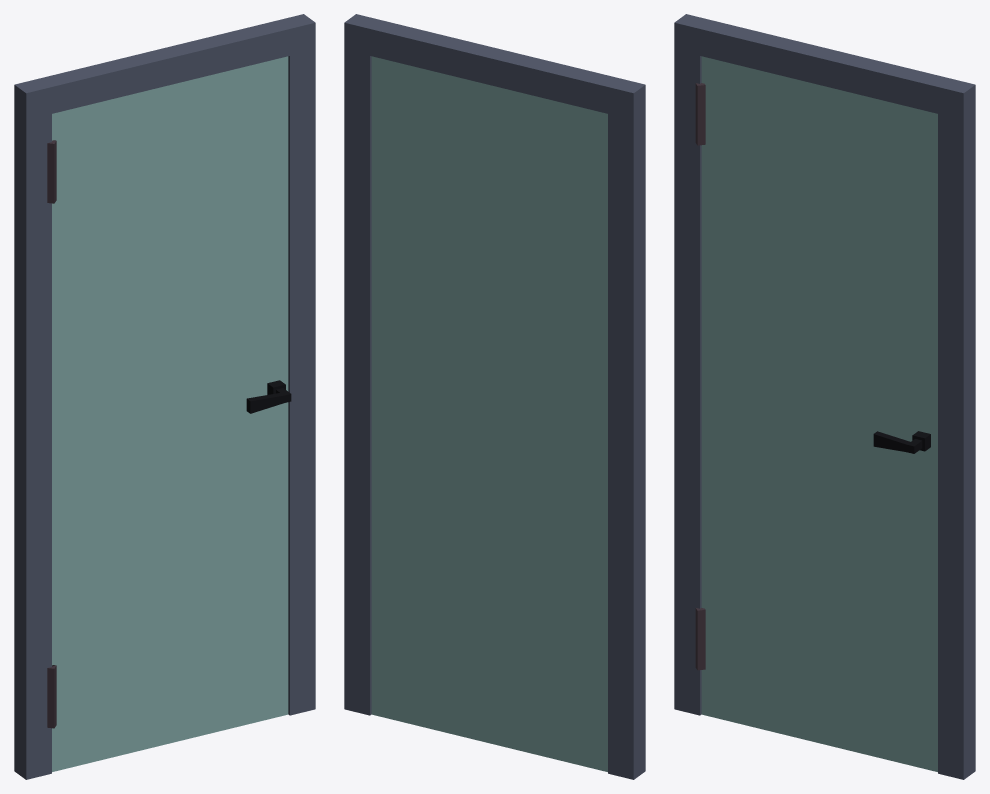
Rendered from doorlab.fbx.
3 views of the same model, side by side, from view 1: azimuth 30°, elevation 25°; view 2: azimuth 150°, elevation 25°; view 3: azimuth 330°, elevation 25° (orthographic).
Visible parts, largest first — view 1: Cube.097, Cube.104; view 2: Cube.097, Cube.104; view 3: Cube.097, Cube.104.
Boxes of the visible parts, box(x1,y1,x2,y2) form: Cube.097: box(52, 56, 291, 771); Cube.104: box(14, 14, 315, 779); Cube.097: box(371, 56, 607, 771); Cube.104: box(344, 14, 645, 779); Cube.097: box(701, 56, 937, 771); Cube.104: box(674, 14, 975, 779).
Bounding box in the file's own units: 98.97 × 224 × 14.46.
